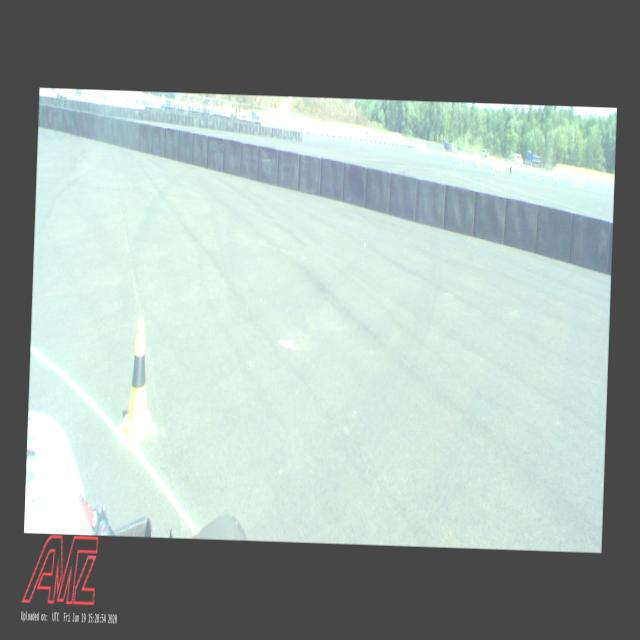yellow_cone: (120, 318, 158, 441)
